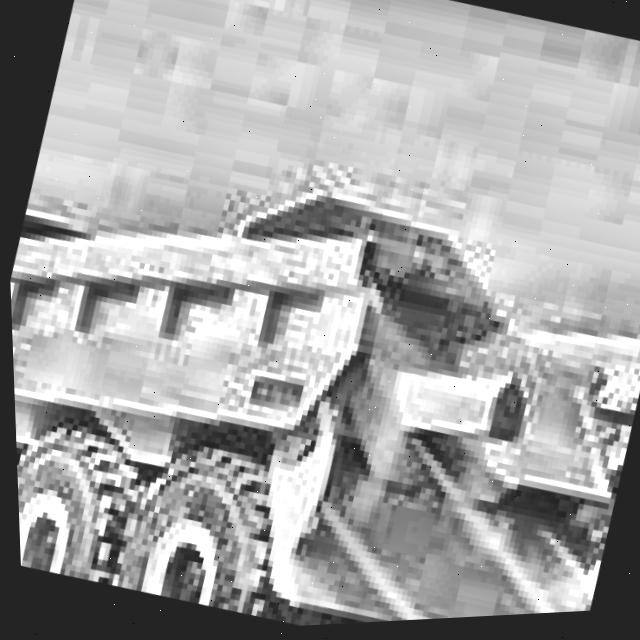dump_truck: (4, 100, 640, 640)
